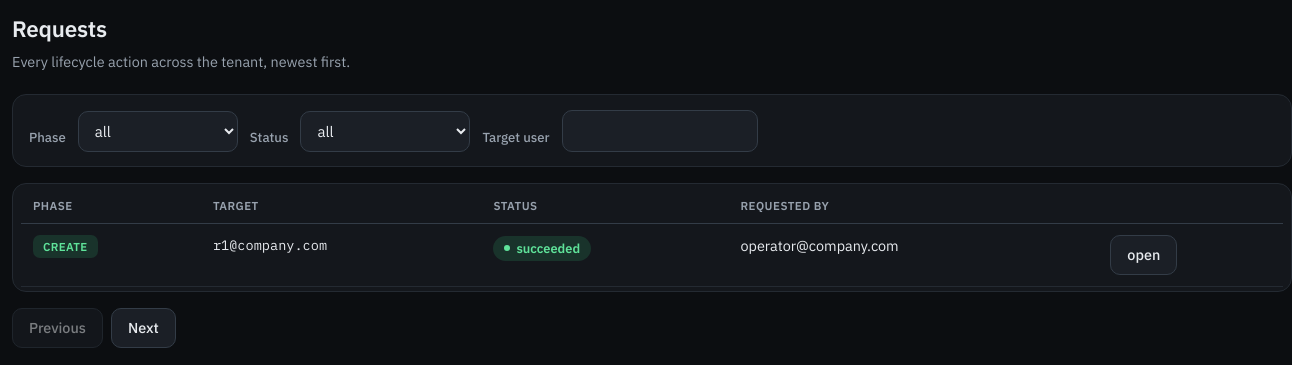
Test case: AC-4: the list filters and pages server-side › pages with the cursor the server issued rather than an offset
expect the text "r1@company.com" is shown: met, box [201,224,481,286]
expect the button "Previous" is disabled: met, box [12,308,103,348]
Click the button "Next" at (143, 328), box [111,308,176,348]
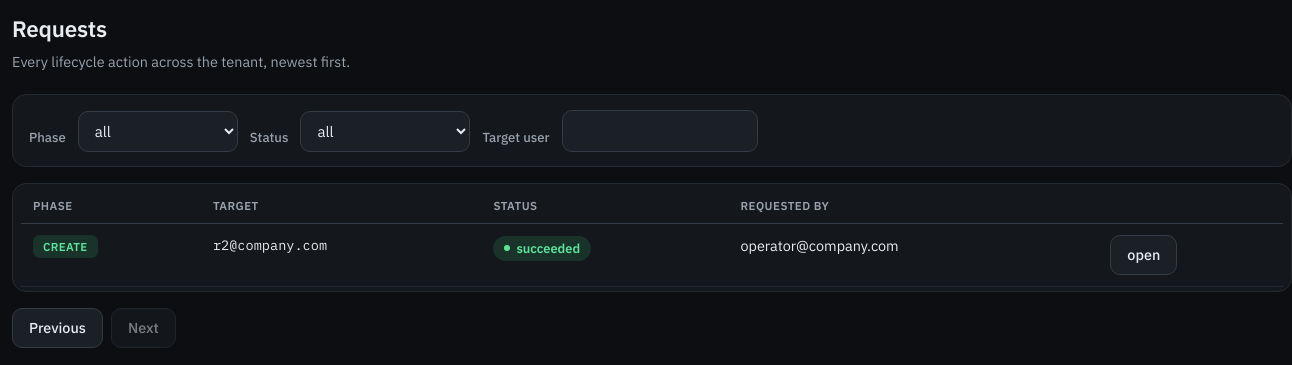
expect the text "r2@company.com" is shown: met, box [201,224,481,286]
expect the button "Next" is disabled: met, box [111,308,176,348]
expect the button "Previous" is enabled: met, box [12,308,103,348]
